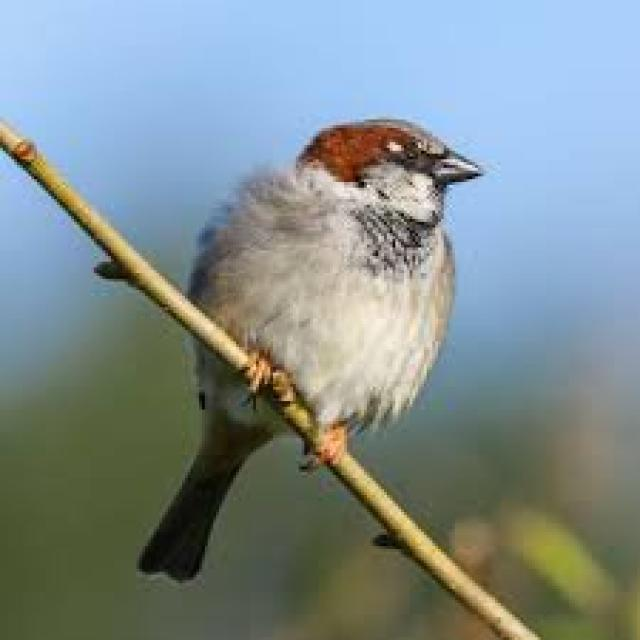Sparrow: (133, 104, 499, 591)
